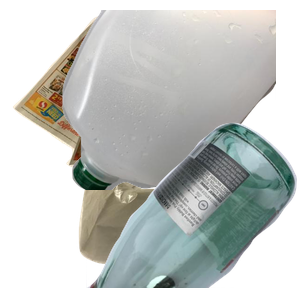glass: (86, 120, 300, 300)
paper: (10, 10, 217, 189)
plastic: (60, 10, 300, 190)
trash: (76, 124, 287, 300)
